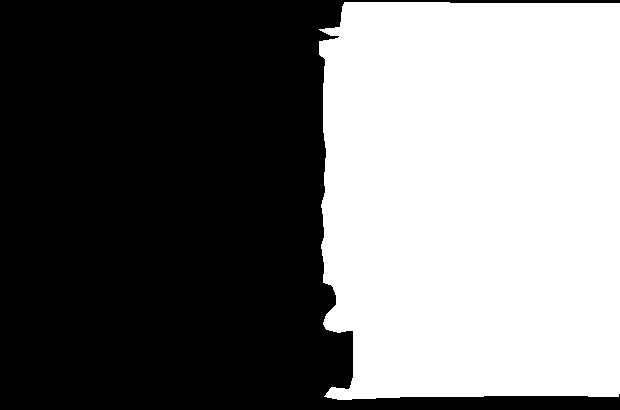type4: (310, 1, 620, 403)
